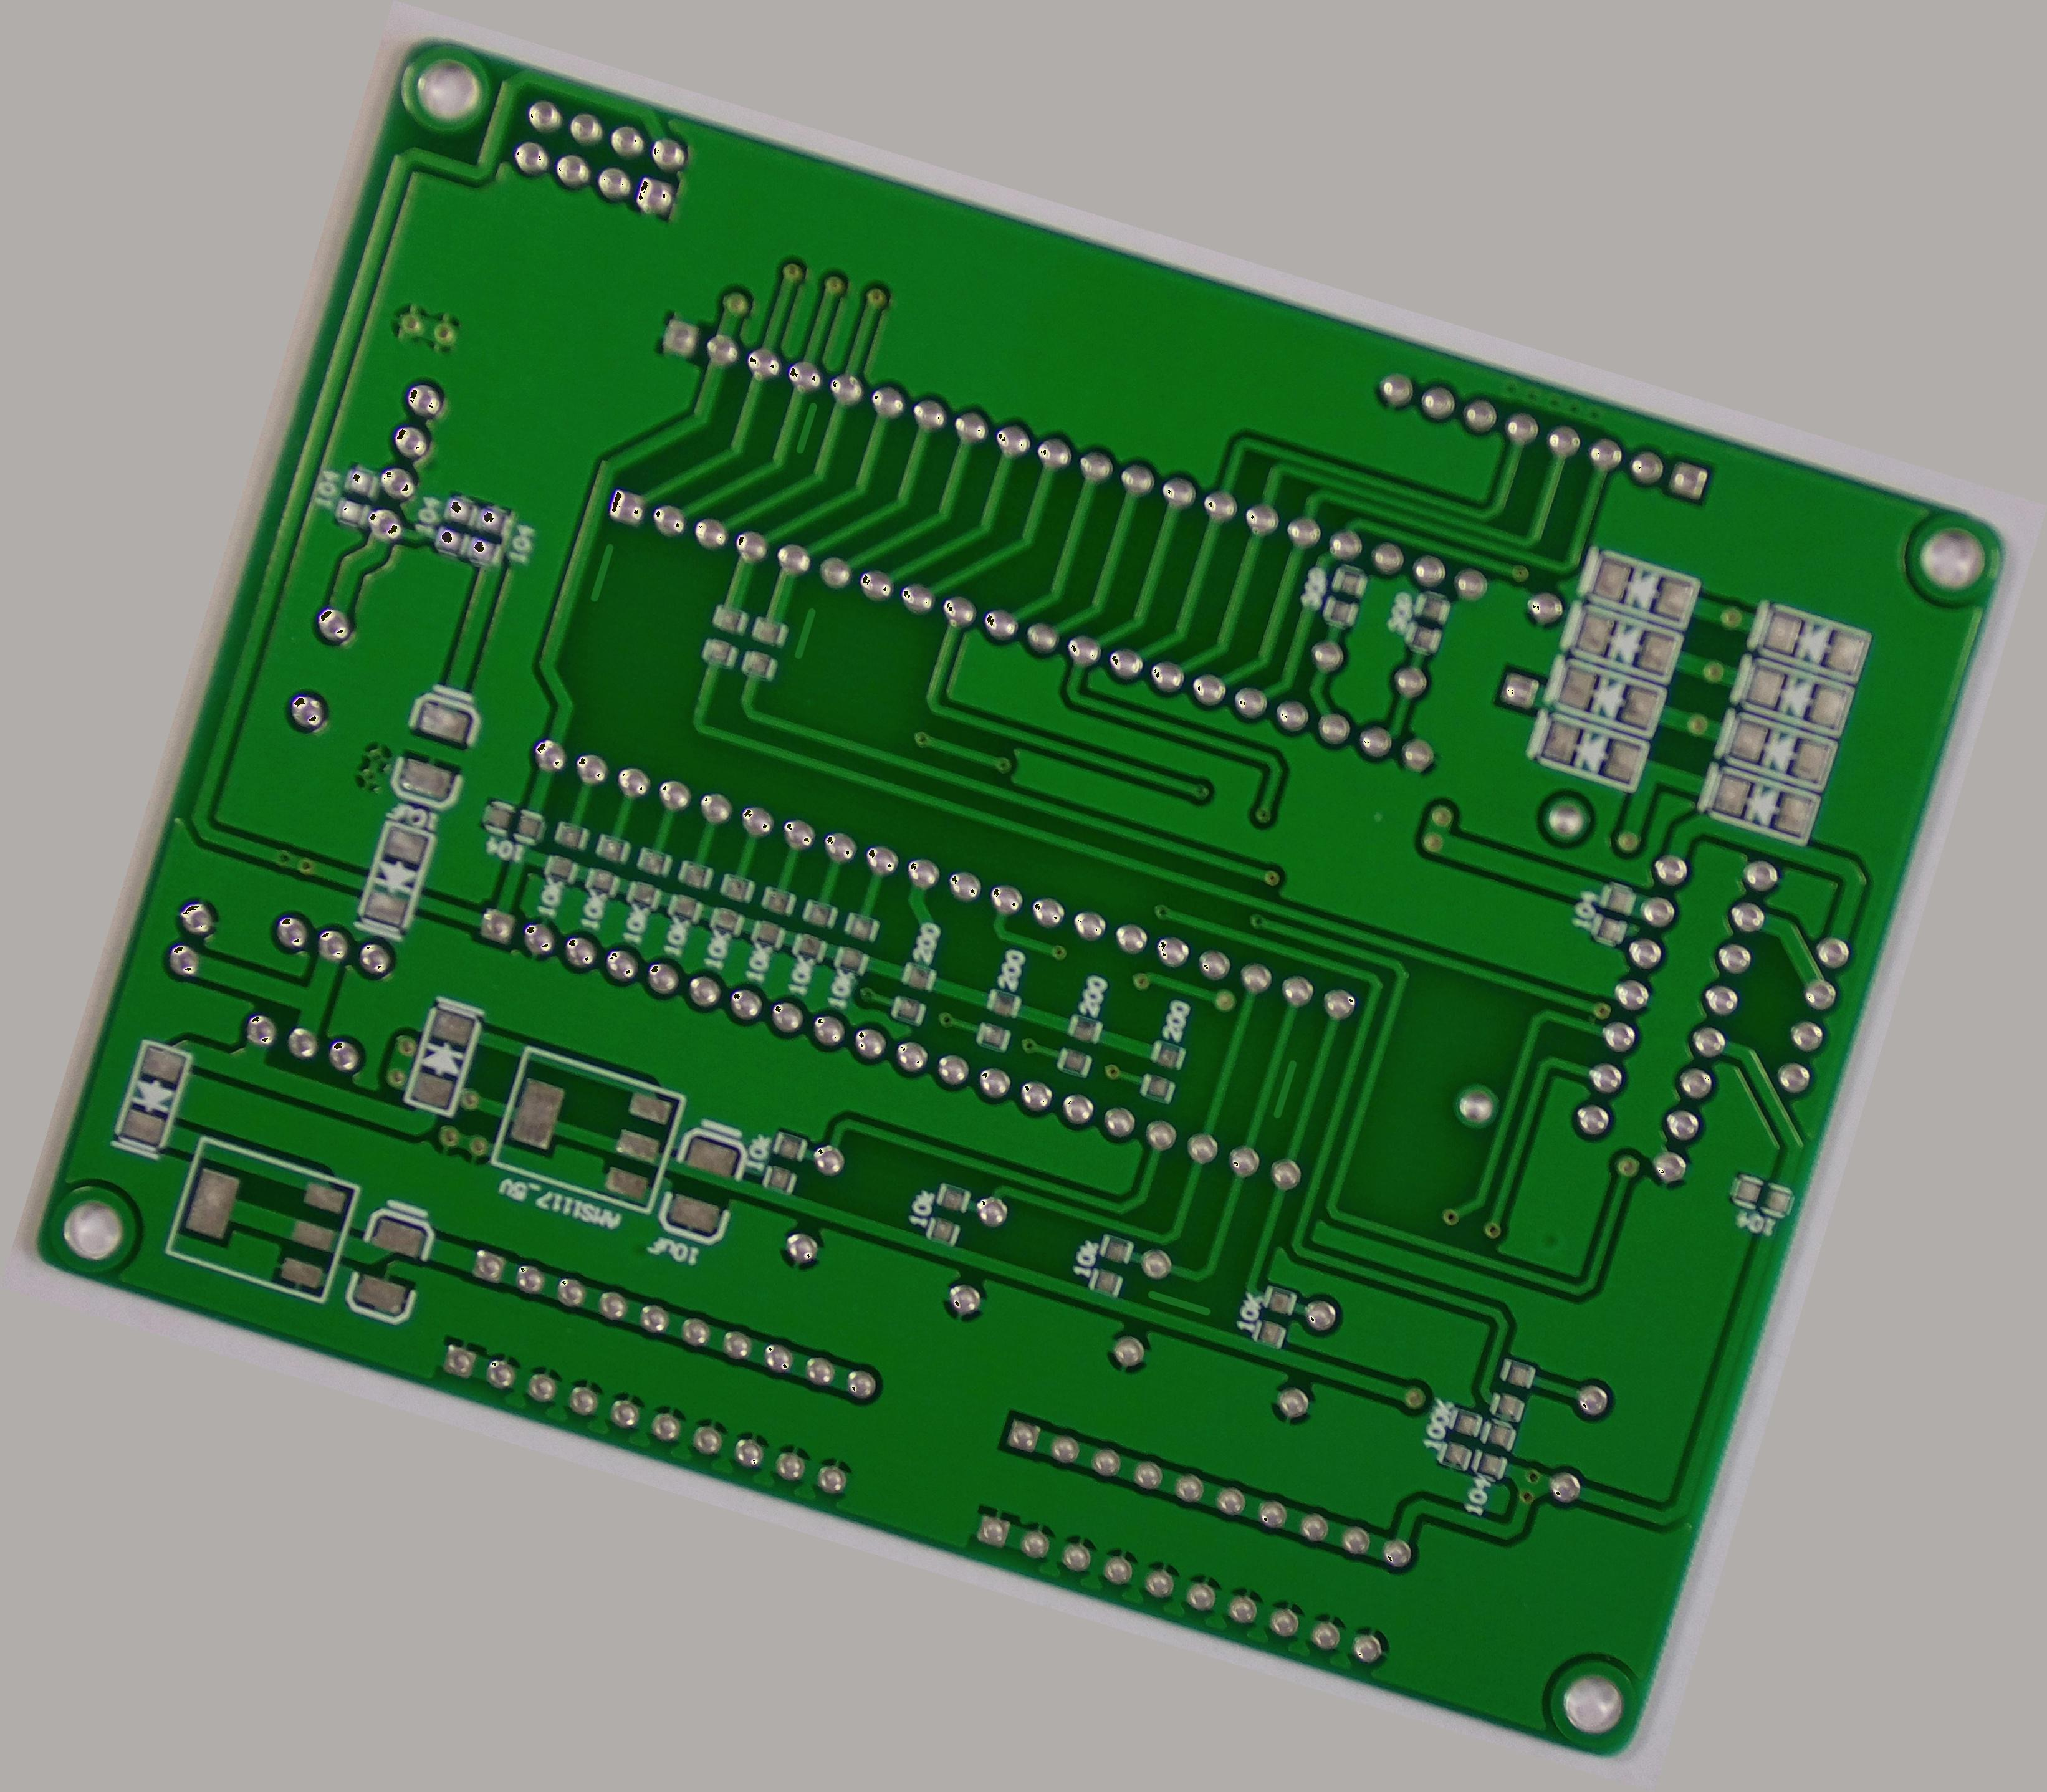spurious_copper: (1260, 1046, 1311, 1133), (1137, 1279, 1220, 1331), (576, 532, 623, 611), (782, 393, 829, 468), (782, 597, 829, 670)
